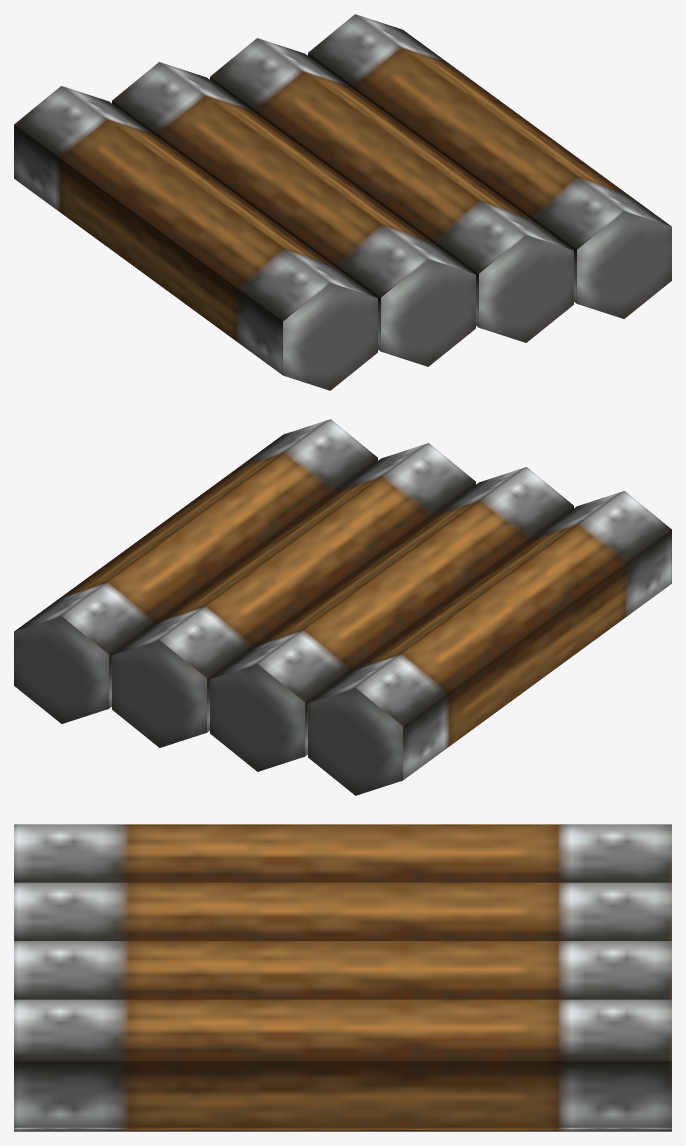
File: Poly_Bridge_Wood_01_Vertical.obj
The picture shows the model from 3 angles, top to bottom: view 1: azimuth 30°, elevation 25°; view 2: azimuth 150°, elevation 25°; view 3: azimuth 270°, elevation 25°; orthographic projection. The views are drawn at different scales.
Visible parts, largest first — view 1: Cube.002; view 2: Cube.002; view 3: Cube.002.
Part boxes in pixels (x1=…): Cube.002: x1=14, y1=14, x2=671, y2=390; Cube.002: x1=14, y1=419, x2=671, y2=795; Cube.002: x1=14, y1=824, x2=671, y2=1131.
Size of the model in its own units: 1 by 0.266 by 1.2.
Materials: 1 (1 with a texture image).
